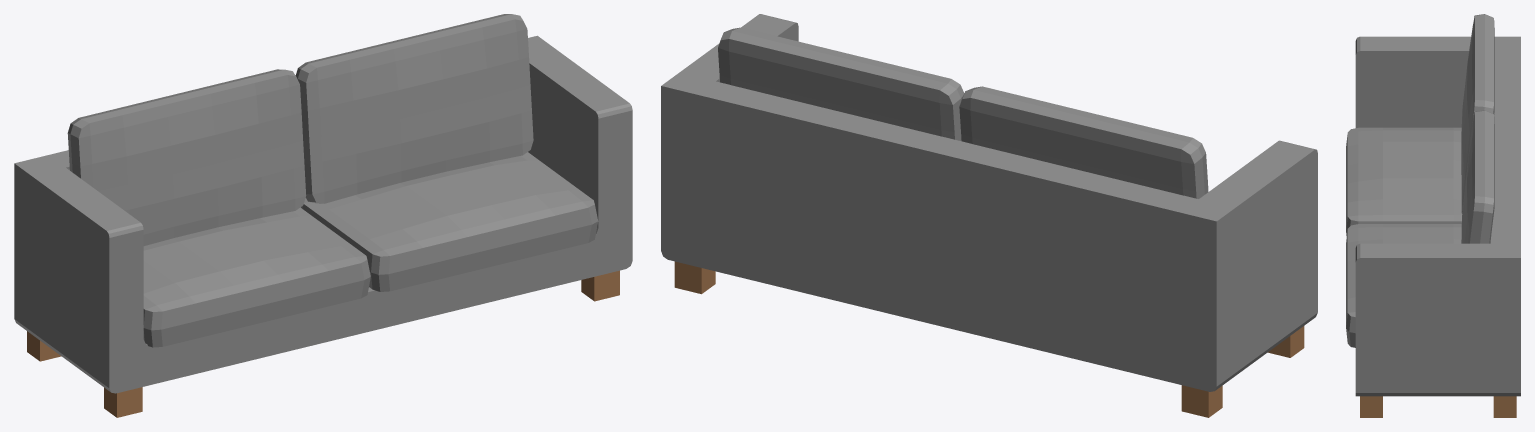
The model's file is Int_Sofa02_1.fbx.
The picture shows the model from 3 angles, left to right: view 1: azimuth 30°, elevation 25°; view 2: azimuth 150°, elevation 25°; view 3: azimuth 270°, elevation 25°; orthographic projection. The views are drawn at different scales.
Visible parts, largest first — view 1: Int_Sofa02_1; view 2: Int_Sofa02_1; view 3: Int_Sofa02_1.
Boxes of the visible parts, bbox=[...] form: Int_Sofa02_1: bbox=[14, 14, 632, 417]; Int_Sofa02_1: bbox=[661, 14, 1317, 417]; Int_Sofa02_1: bbox=[1346, 14, 1520, 417].
Size of what is drawn, in the model's own units: 300 by 100 by 130.
